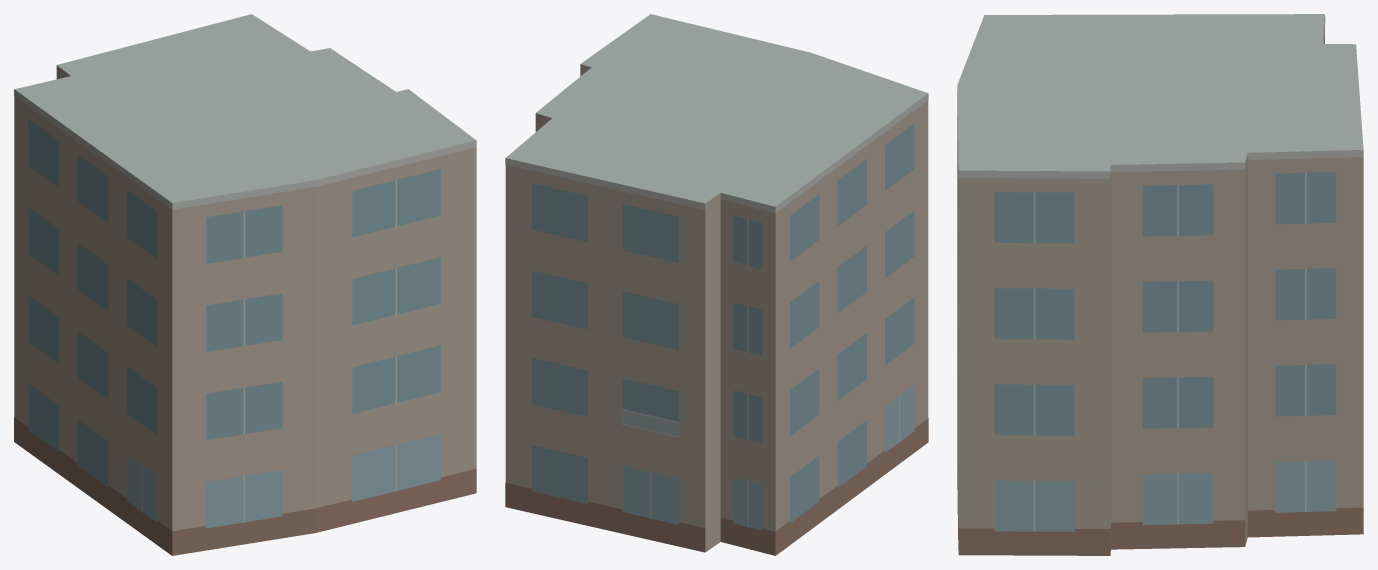
Rendered from survey-upis-32660172.glb.
The picture shows the model from 3 angles, left to right: view 1: azimuth 30°, elevation 25°; view 2: azimuth 150°, elevation 25°; view 3: azimuth 270°, elevation 25°; orthographic projection. The views are drawn at different scales.
Visible parts, largest first — view 1: survey-upis-32660172.tmp; view 2: survey-upis-32660172.tmp; view 3: survey-upis-32660172.tmp.
Boxes of the visible parts, left/top/right/bottom form: survey-upis-32660172.tmp: left=14, top=14, right=476, bottom=555; survey-upis-32660172.tmp: left=505, top=14, right=928, bottom=555; survey-upis-32660172.tmp: left=957, top=14, right=1363, bottom=555.
Size of the model in its own units: 11.33 by 12.9 by 12.36.
